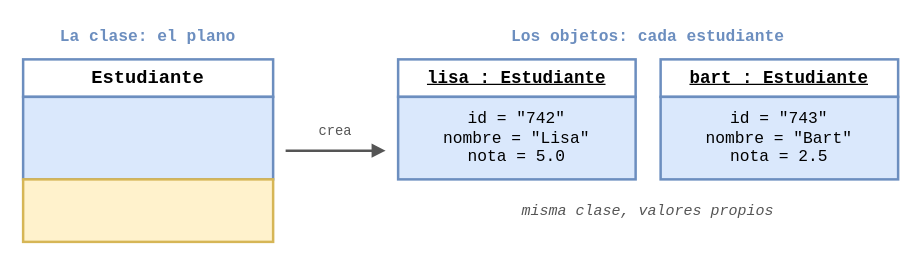
Image size: 920x264. Some labels were removed from this diagram. Here are the shapes that lost their labels. From the top down, the box of each, then its label:
(21, 95, 274, 180): id nombre nota
(21, 178, 274, 242): get_nota() set_nota()
